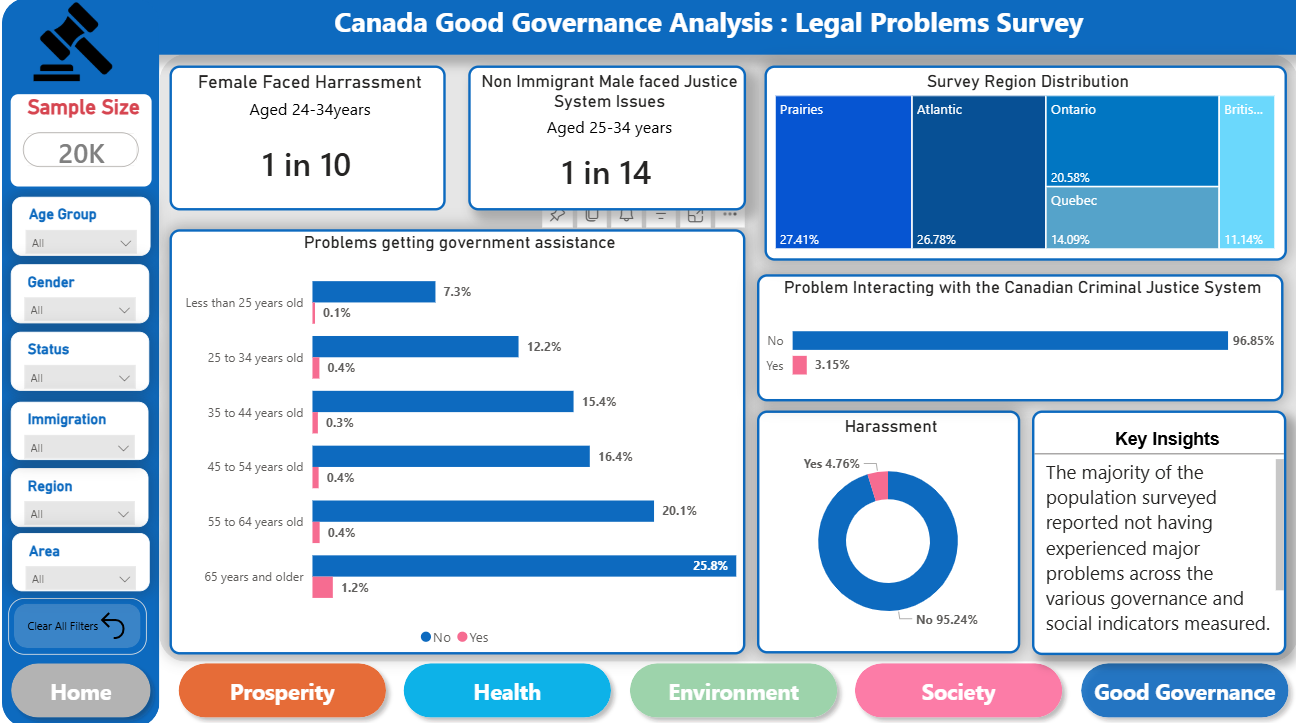

The dashboard page shown, as its layout file describes it:
{"tool":"powerbi","page":{"name":"Good Governance","canvas":[1280,720],"ordinal":5},"visuals":[{"type":"shape","box":[155.7,55.7,1124.3,600],"z":0},{"type":"textbox","box":[124.3,0,1154.3,55.7],"z":1000},{"type":"shape","box":[0,0,155.6,720.4],"z":2000},{"type":"actionButton","title":"Clear All Filters","box":[5.7,592.9,137.1,55.7],"z":3000},{"type":"clusteredBarChart","title":"Problems getting government assistance","fields":{"Category":["GoodGovernance_MainTable.AGEGRP"],"Y":["Divide(CountNonNull(GoodGovernance_MainTable.PUMFID), ScopedEval(CountNonNull(GoodGovernance_MainTable.PUMFID), []))"],"Series":["GoodGovernance_MainTable.Problems getting government assistance"]},"box":[165.7,228.6,568.6,420],"z":4000},{"type":"slicer","fields":{"Values":["GoodGovernance_MainTable.AGEGRP"]},"box":[10,195.7,137.1,58.6],"z":5000},{"type":"cardVisual","title":"Sample Size","fields":{"Data":["CountNonNull(GoodGovernance_MainTable.PUMFID)"]},"box":[5.7,92.9,144.3,95.7],"z":6000},{"type":"slicer","fields":{"Values":["GoodGovernance_MainTable.GDRP10"]},"box":[8.6,262.9,137.1,58.6],"z":7000},{"type":"slicer","fields":{"Values":["GoodGovernance_MainTable.REGION"]},"box":[9.2,464.4,136.2,58.5],"z":8000},{"type":"slicer","fields":{"Values":["GoodGovernance_MainTable.IMEP05A"]},"box":[8.6,330,137.1,58.6],"z":9000},{"type":"slicer","fields":{"Values":["GoodGovernance_MainTable.RURURBP"]},"box":[9.3,528.1,136.1,57.4],"z":10000},{"type":"slicer","fields":{"Values":["GoodGovernance_MainTable.IMMSTPP"]},"box":[9.2,399,136.2,57.7],"z":11000},{"type":"donutChart","title":"Harassment","fields":{"Category":["GoodGovernance_MainTable.PRIP05Q"],"Y":["CountNonNull(GoodGovernance_MainTable.PUMFID)"]},"box":[745.7,407.1,260,240],"z":12000},{"type":"barChart","title":"Problem Interacting with the Canadian Criminal Justice System","fields":{"Category":["GoodGovernance_MainTable.PRIP05J"],"Y":["Divide(CountNonNull(GoodGovernance_MainTable.PUMFID), ScopedEval(CountNonNull(GoodGovernance_MainTable.PUMFID), []))"]},"box":[745.7,272.9,520,125.7],"z":13000},{"type":"treemap","title":"Survey Region Distribution","fields":{"Group":["GoodGovernance_MainTable.REGION"],"Values":["CountNonNull(GoodGovernance_MainTable.PUMFID)"]},"box":[752.9,67.1,515.7,192.9],"z":14000},{"type":"image","box":[0,4.2,140.2,78.5],"z":15000},{"type":"actionButton","box":[165.4,648.5,222.8,71.5],"z":16000},{"type":"actionButton","box":[388.2,648.5,222.8,71.5],"z":17000},{"type":"actionButton","box":[611.1,648.5,222.8,71.5],"z":18000},{"type":"actionButton","box":[833.9,648.5,222.8,71.5],"z":19000},{"type":"actionButton","box":[1056.8,648.5,222.8,71.5],"z":20000},{"type":"actionButton","box":[0,648.6,155.7,71.4],"z":21000},{"type":"cardVisual","title":"Female Faced Harrassment ","fields":{"Data":["GoodGovernance Page Dataset.Text_Unit_Ratio_Female_25_34"]},"box":[165.7,67.1,272.9,142.9],"z":22000},{"type":"cardVisual","title":"Non Immigrant Male faced Justice System Issues","fields":{"Data":["GoodGovernance Page Dataset.Text_Unit_Ratio_Male_25_34_BC"]},"box":[460,67.1,274.3,142.9],"z":23000},{"type":"textbox","title":"Key Insights ","box":[1017.1,407.1,251.4,241.4],"z":24000}]}

Visuals, with their boxes in screenshot pixels (x1, y1, x2, y2), scaled from the page's 1280x720 canvas onto the 1296x723 screenshot:
shape: box(158, 56, 1295, 658)
textbox: box(126, 0, 1295, 56)
shape: box(0, 0, 158, 722)
"Clear All Filters" actionButton: box(6, 595, 145, 651)
"Problems getting government assistance" clusteredBarChart: box(168, 230, 743, 651)
slicer - GoodGovernance_MainTable.AGEGRP: box(10, 197, 149, 255)
"Sample Size" cardVisual: box(6, 93, 152, 189)
slicer - GoodGovernance_MainTable.GDRP10: box(9, 264, 148, 323)
slicer - GoodGovernance_MainTable.REGION: box(9, 466, 147, 525)
slicer - GoodGovernance_MainTable.IMEP05A: box(9, 331, 148, 390)
slicer - GoodGovernance_MainTable.RURURBP: box(9, 530, 147, 588)
slicer - GoodGovernance_MainTable.IMMSTPP: box(9, 401, 147, 459)
"Harassment" donutChart: box(755, 409, 1018, 650)
"Problem Interacting with the Canadian Criminal Justice System" barChart: box(755, 274, 1282, 400)
"Survey Region Distribution" treemap: box(762, 67, 1284, 261)
image: box(0, 4, 142, 83)
actionButton: box(167, 651, 393, 722)
actionButton: box(393, 651, 619, 722)
actionButton: box(619, 651, 844, 722)
actionButton: box(844, 651, 1070, 722)
actionButton: box(1070, 651, 1295, 722)
actionButton: box(0, 651, 158, 722)
"Female Faced Harrassment " cardVisual: box(168, 67, 444, 211)
"Non Immigrant Male faced Justice System Issues" cardVisual: box(466, 67, 743, 211)
"Key Insights " textbox: box(1030, 409, 1284, 651)
